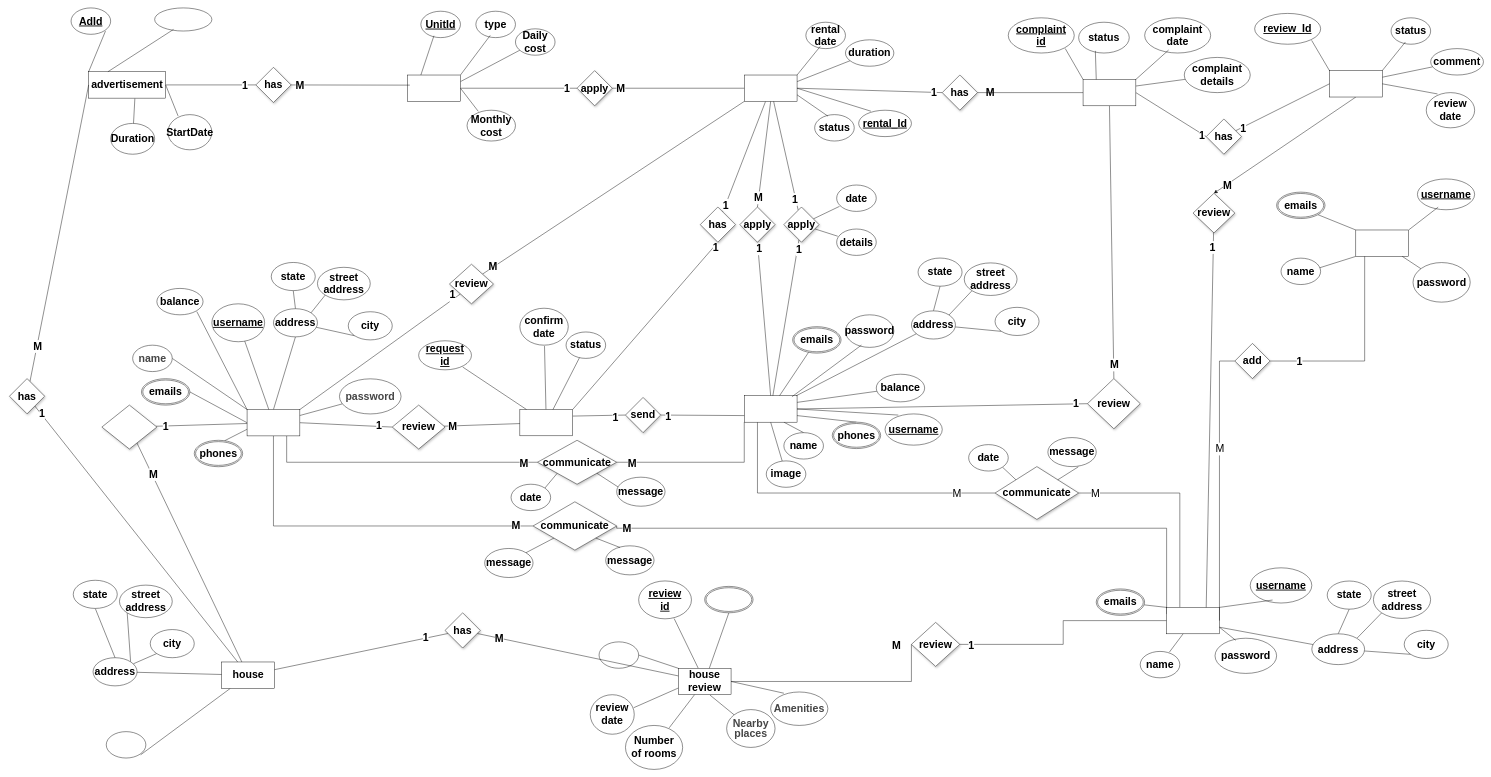
This 1491x777 diagram has some shape labels left out. Each missing label, with the centre of its shape:
admin: [1382,243]
arrival request: [546,422]
complaint: [1109,92]
complaint review: [1355,83]
customer service: [1192,620]
description: [183,19]
house id: [126,744]
images: [728,599]
landlord: [273,422]
manage: [130,427]
rental: [770,88]
rental unit: [433,88]
service: [619,654]
Tenant: [770,408]
